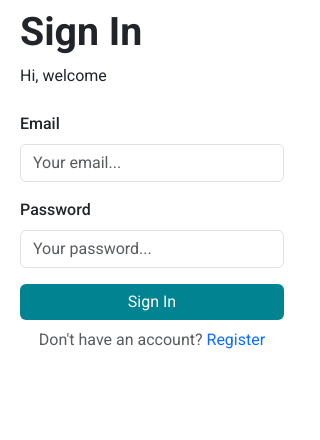
Test: Login spec › should display alert when username and password are wrong
The width and height of the screenshot is (320, 440).
In the field named "email": (152, 163) [20,144,284,182], type "wrongemail@example.com"
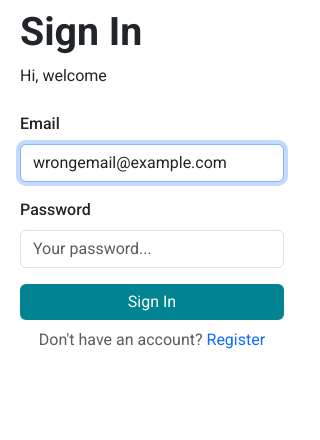
In the password field named "password": (152, 249) [20,230,284,268], type "wrongpassword"
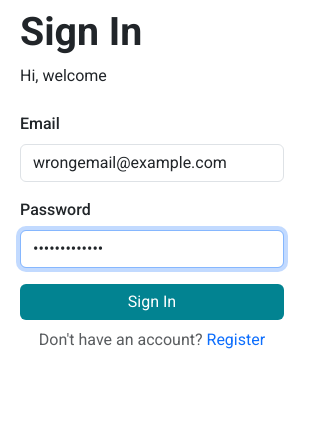
Click the submit button: (152, 302) [20,284,284,320]
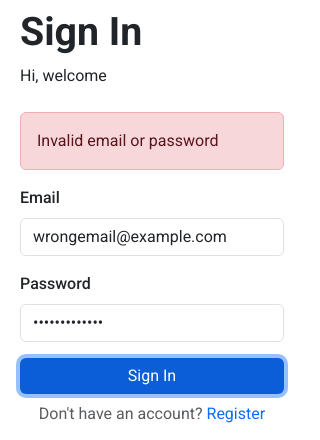
Expected: the text "Invalid email or password" is shown, [20,112,284,170]
